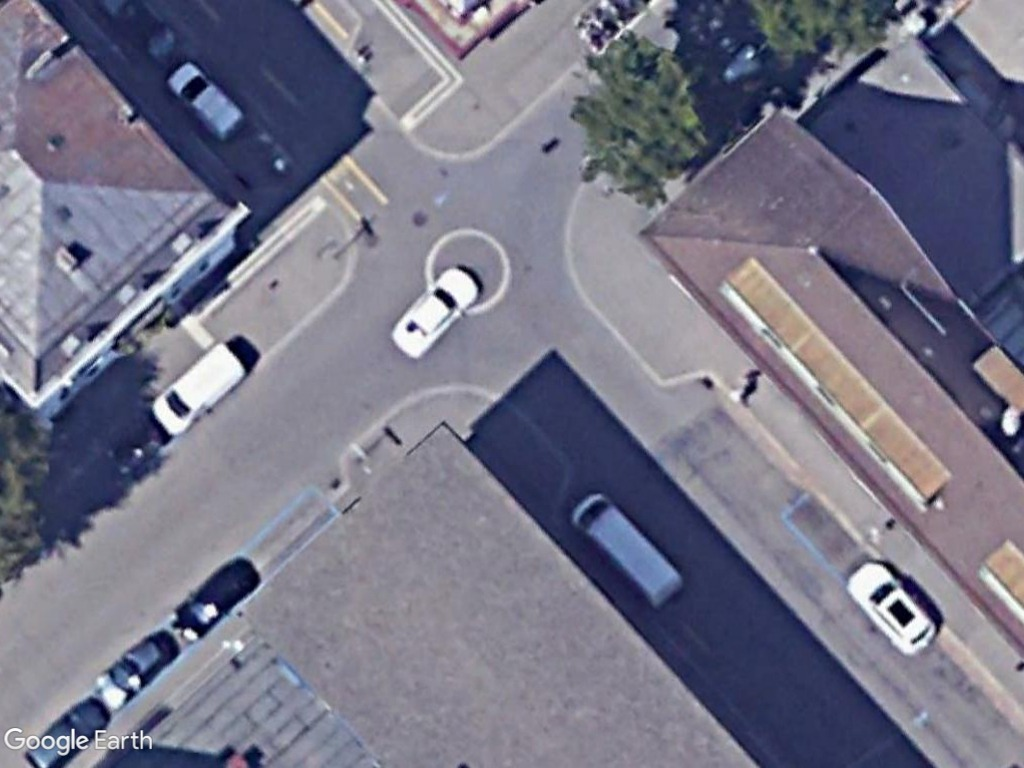car: (841, 558, 941, 660), (387, 263, 482, 364), (161, 61, 247, 143)
van: (566, 485, 687, 611), (147, 334, 249, 443)
